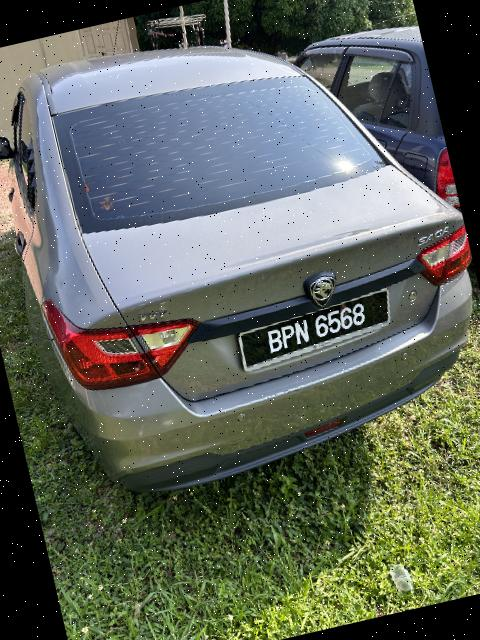License_Plate: (234, 290, 404, 378)
car: (1, 1, 480, 524)
